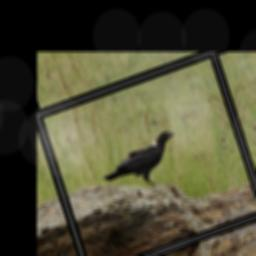Crow: (95, 128, 188, 202)
